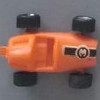carro: (4, 15, 96, 87)
